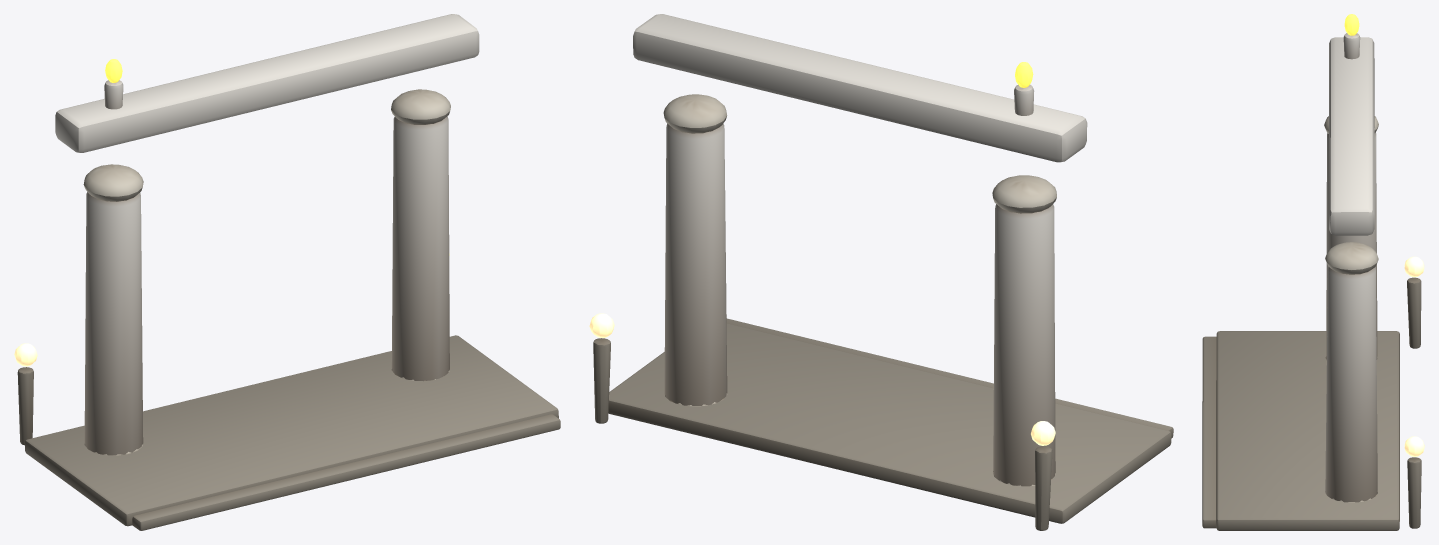
3 renders of one model, left to right at view 1: azimuth 30°, elevation 25°; view 2: azimuth 150°, elevation 25°; view 3: azimuth 270°, elevation 25°, orthographic. The views are drawn at different scales.
Visible parts, largest first — view 1: gate_42a254fa; view 2: gate_42a254fa; view 3: gate_42a254fa.
Boxes of the visible parts, bbox=[...] form: gate_42a254fa: bbox=[14, 14, 560, 530]; gate_42a254fa: bbox=[589, 14, 1173, 530]; gate_42a254fa: bbox=[1202, 14, 1424, 530].
Bounding box in the file's own units: 5.13 × 4.51 × 2.54.
